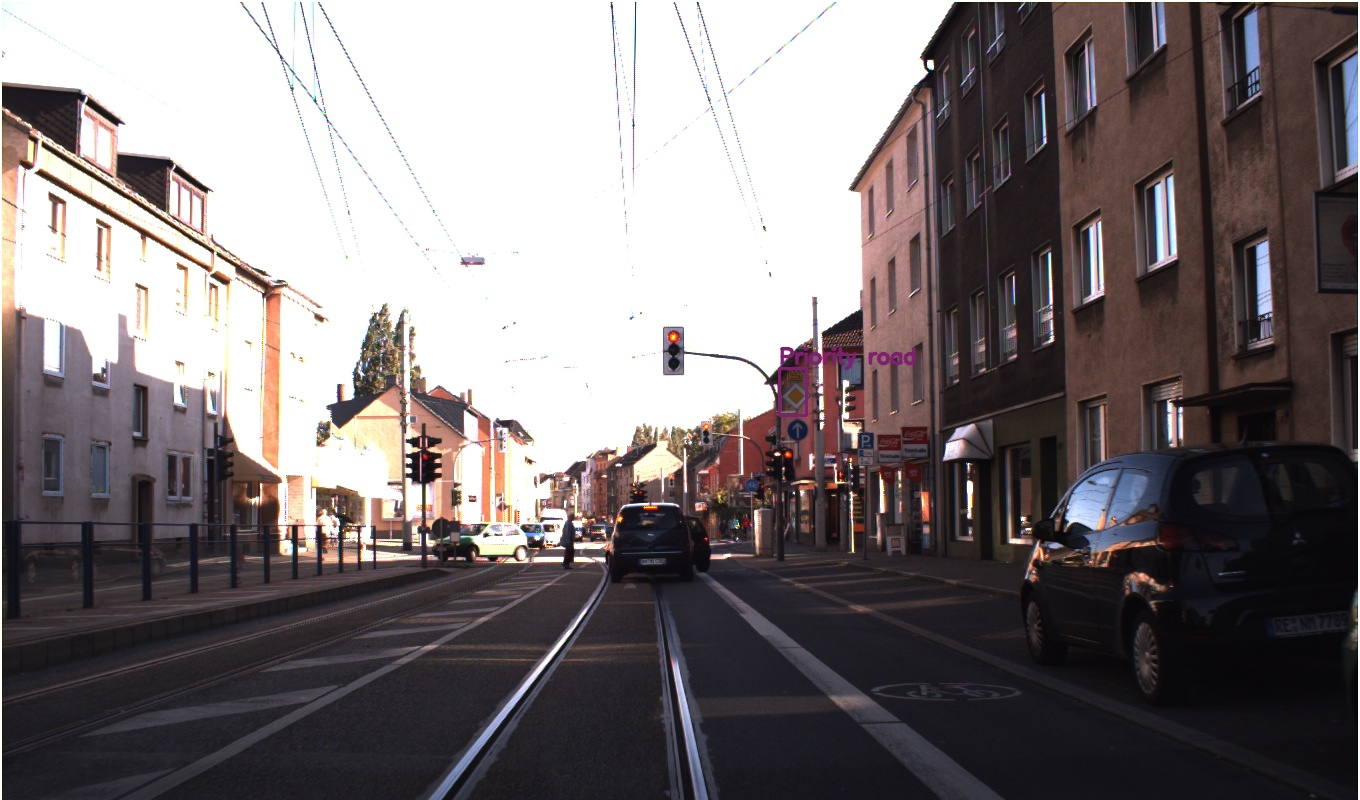Ahead only: (766, 438, 799, 471)
No vehicles: (1156, 333, 1196, 372)
